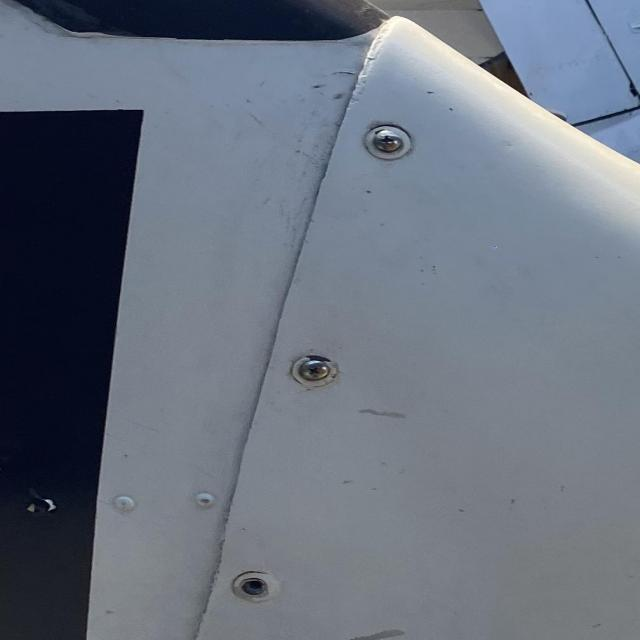Missing-head: (227, 572, 273, 604)
Paint-off: (345, 630, 403, 640), (354, 409, 404, 420)
